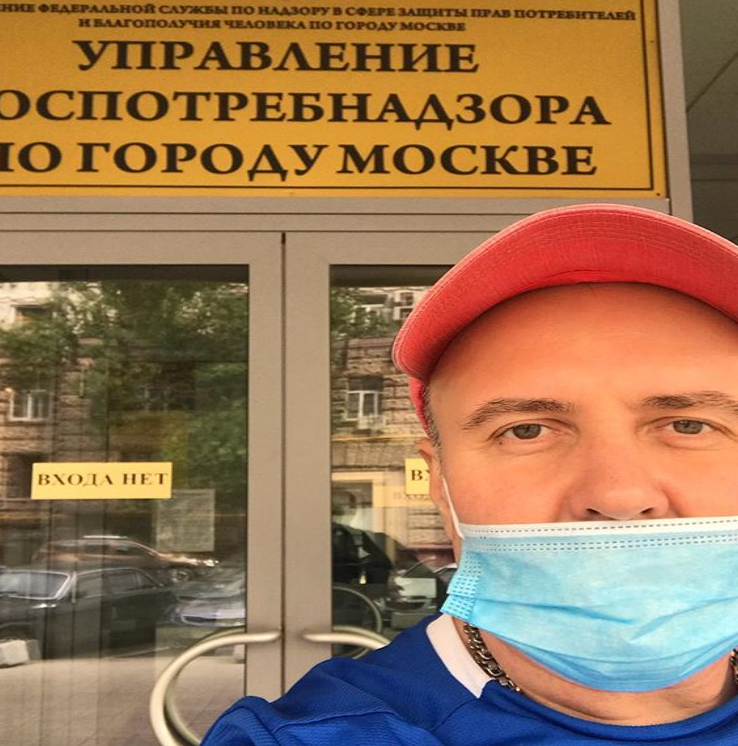mask_weared_incorrect: (418, 240, 737, 683)
